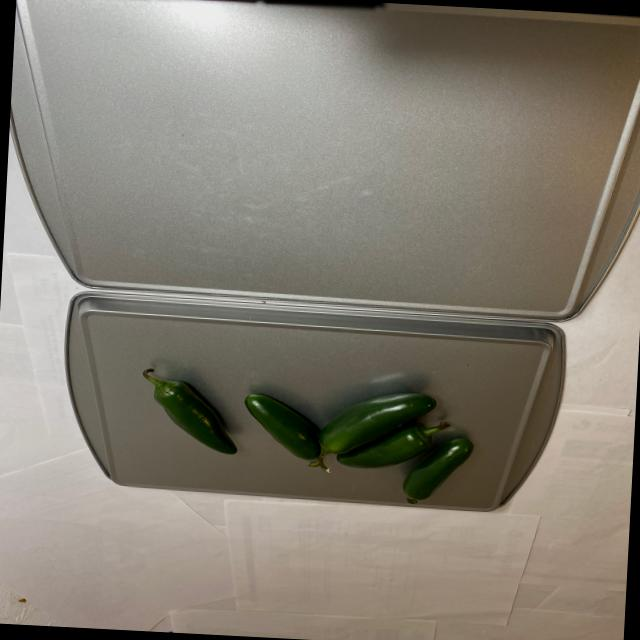chilli: (134, 352, 484, 511)
